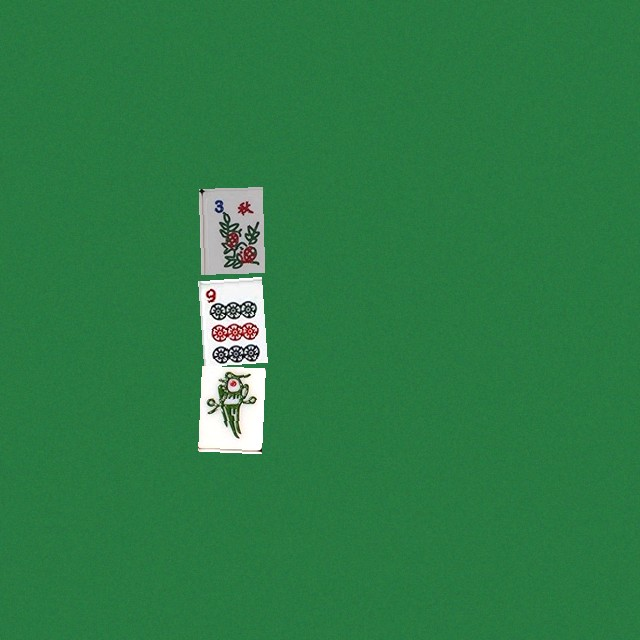tile: (198, 187, 262, 273), (198, 276, 262, 362), (198, 365, 262, 451)
